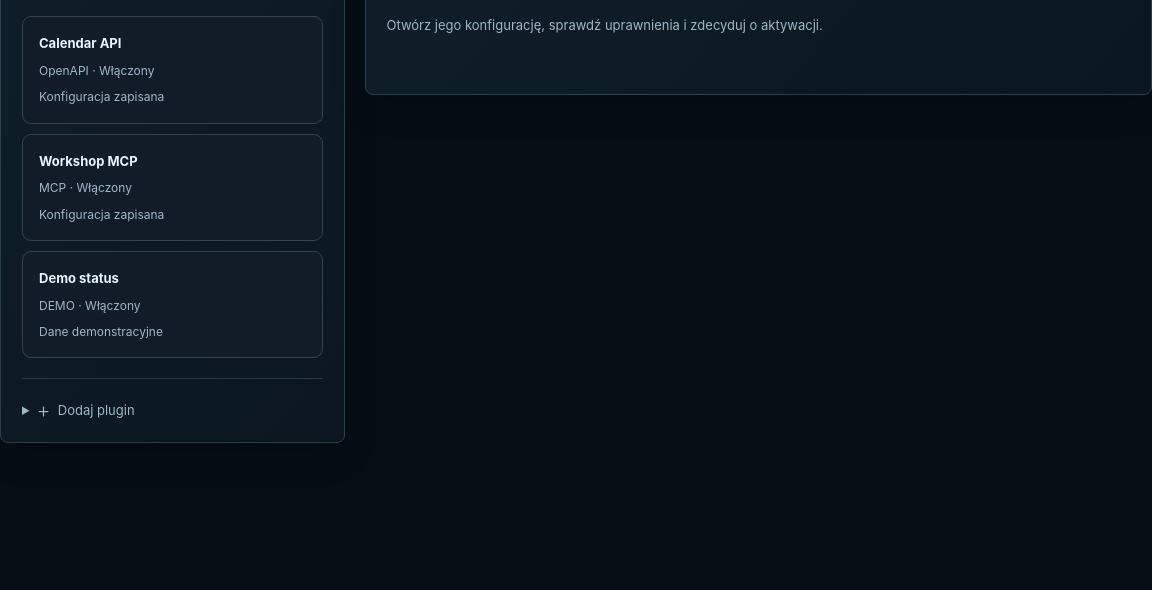
Test: Owner Plugin Manager › requires an explicit catalog action and explicit operation before a test read, escaping returned HTML
Click the button "Calendar API" at (80, 43), box [22,16,322,124]
(page scrolled)
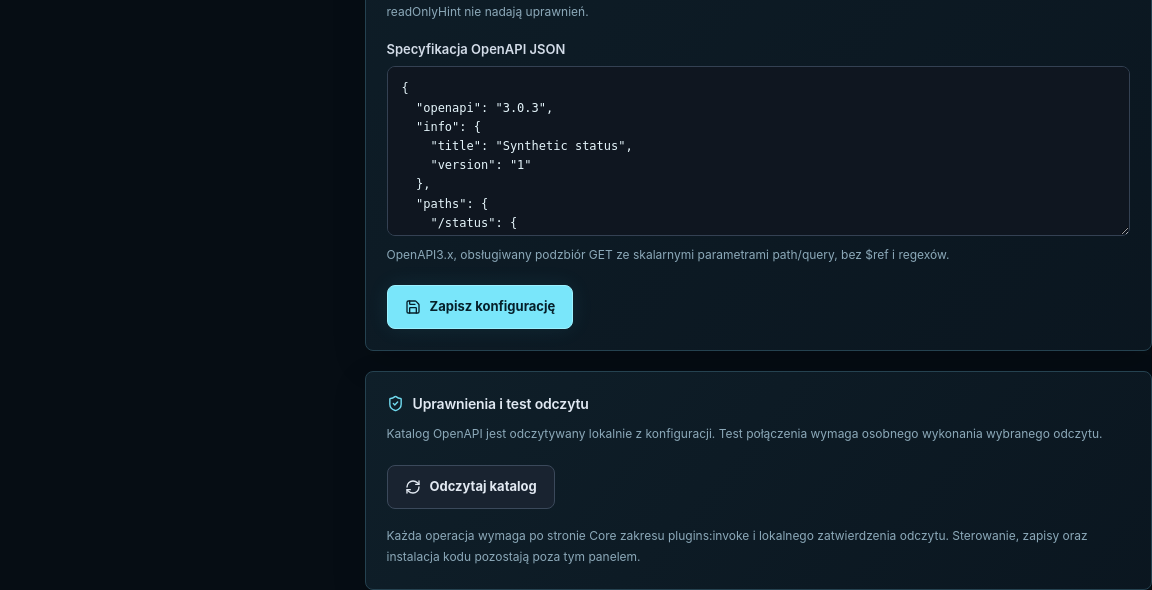
Click the button "Odczytaj katalog" at (471, 487), box [386,465,555,509]
(page scrolled)
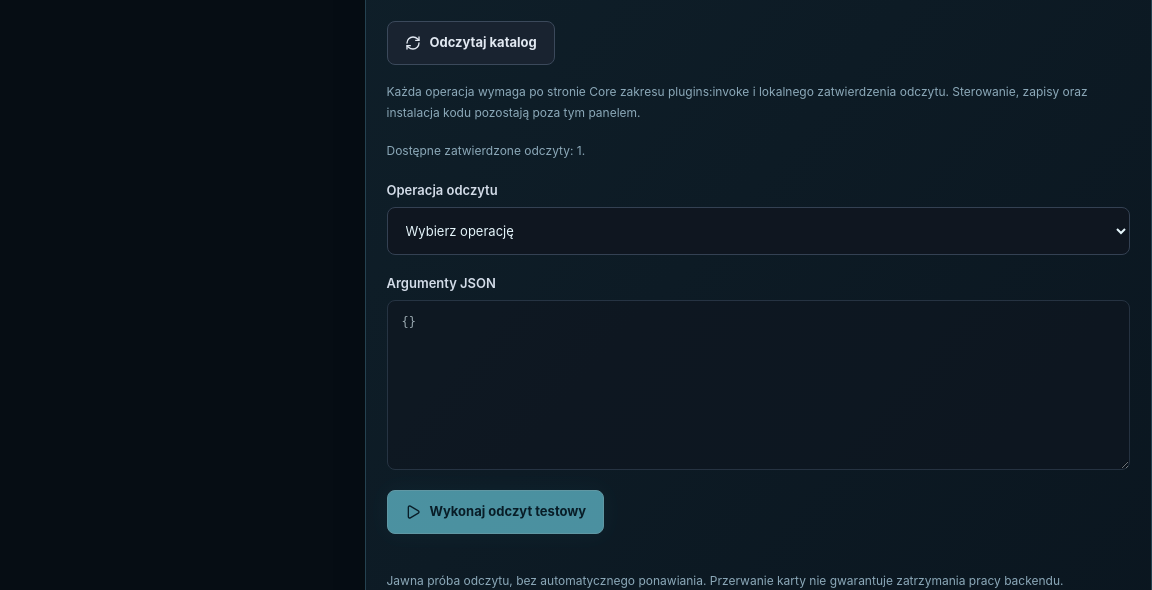
Result: the dropdown labelled "Operacja odczytu" shows "Wybierz operację"
Result: the button "Wykonaj odczyt testowy" is disabled at [386,490,604,534]
Select "status" in the dropdown labelled "Operacja odczytu" at (758, 231), box [386,207,1130,255]
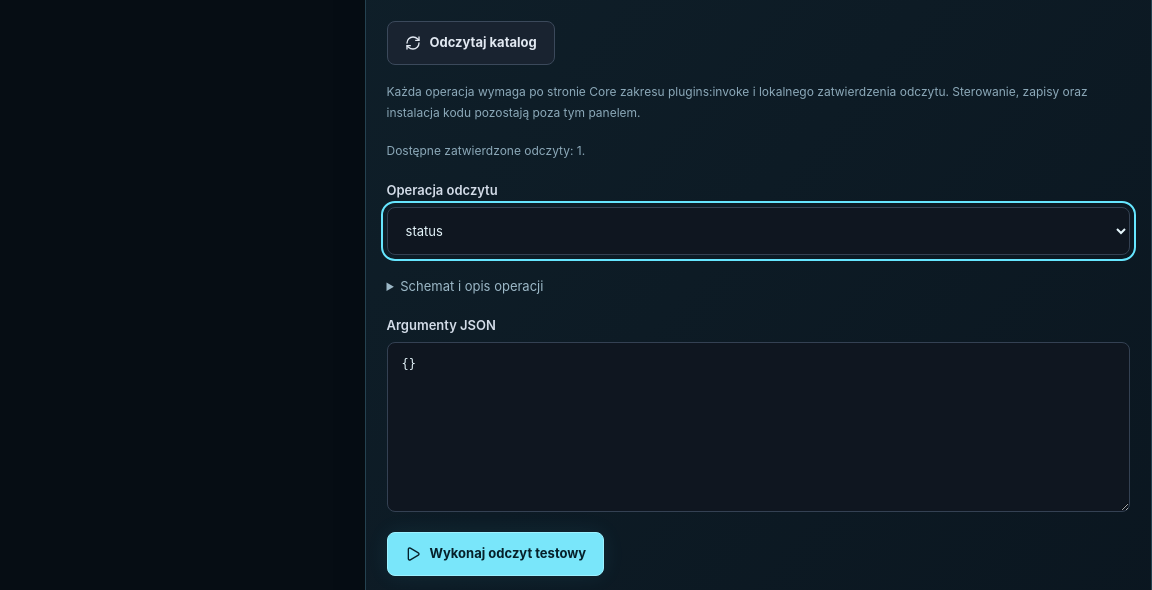
Click the button "Wykonaj odczyt testowy" at (495, 554), box [386,532,604,576]
(page scrolled)
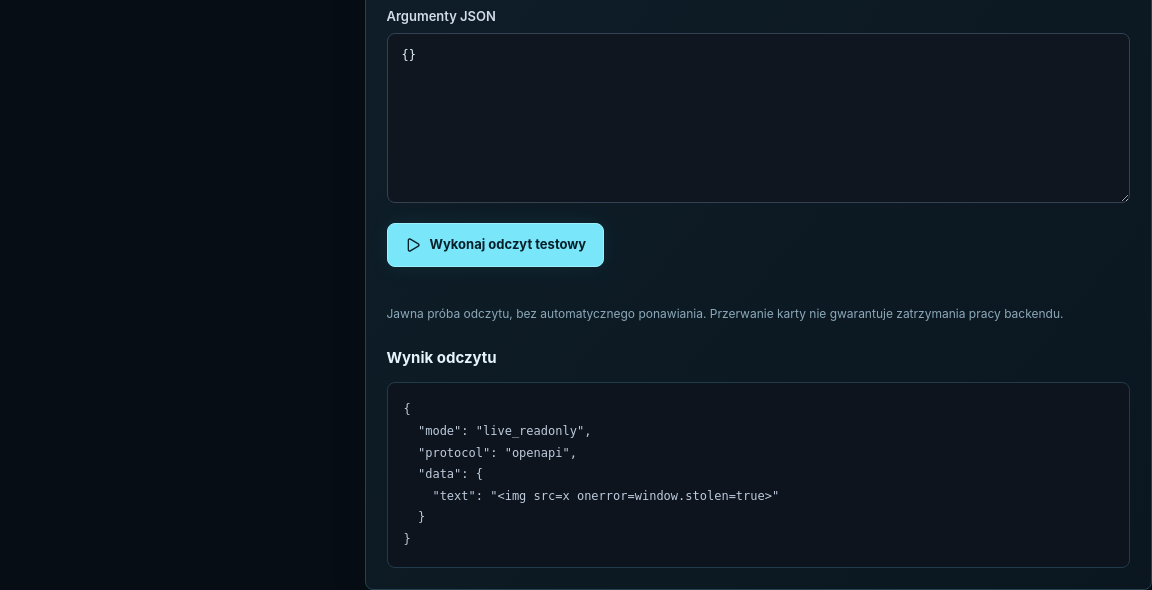
Result: the heading "Wynik odczytu" is shown at [386,348,497,367]
